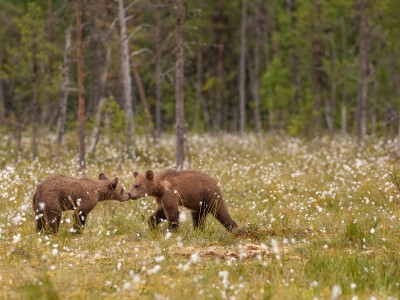bear: (96, 166, 130, 202), (131, 167, 158, 201)
